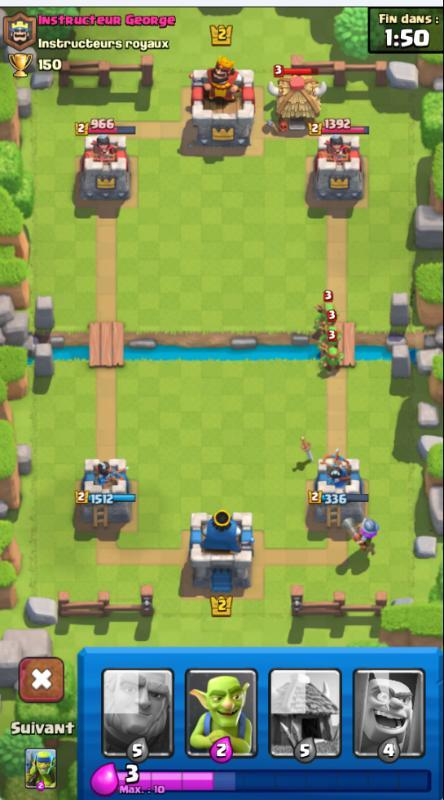enemy_goblin_hut: (264, 62, 327, 136)
enemy_spear_goblins: (315, 339, 344, 371), (309, 309, 335, 337), (319, 290, 338, 319)
player_musketeer: (343, 511, 382, 557)
